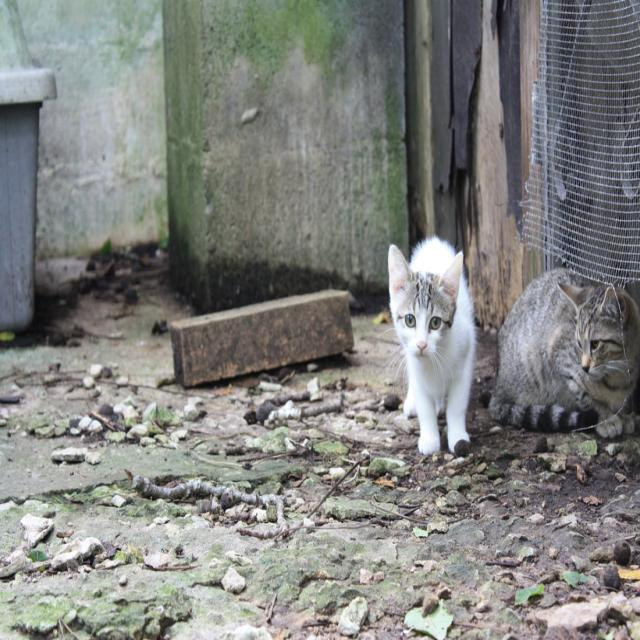cat: (489, 268, 640, 438), (389, 236, 475, 455)
